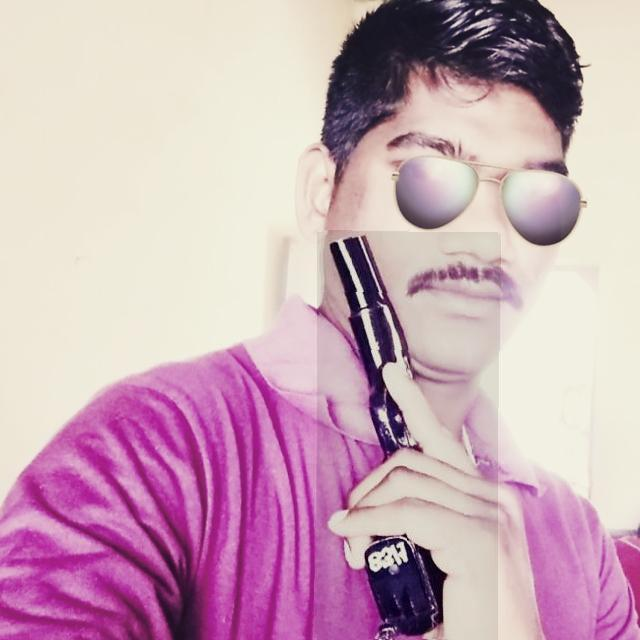handgun: (315, 231, 499, 640)
